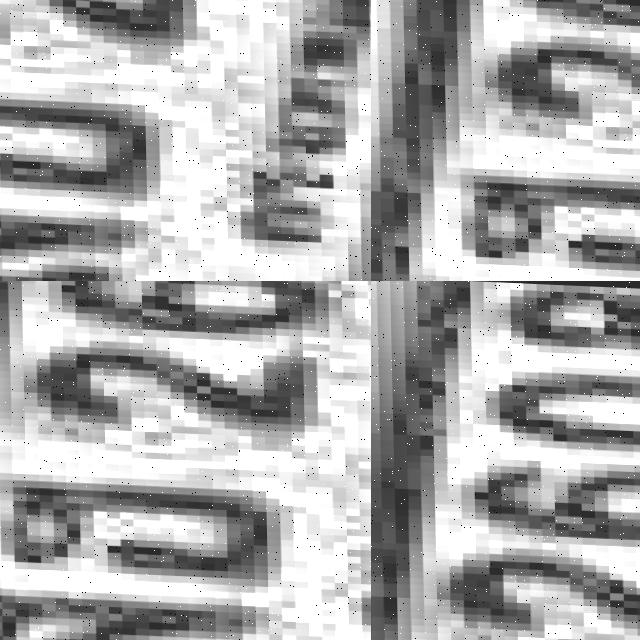license-plate: (0, 281, 371, 640), (0, 0, 371, 281), (371, 281, 640, 640), (424, 0, 640, 281)
